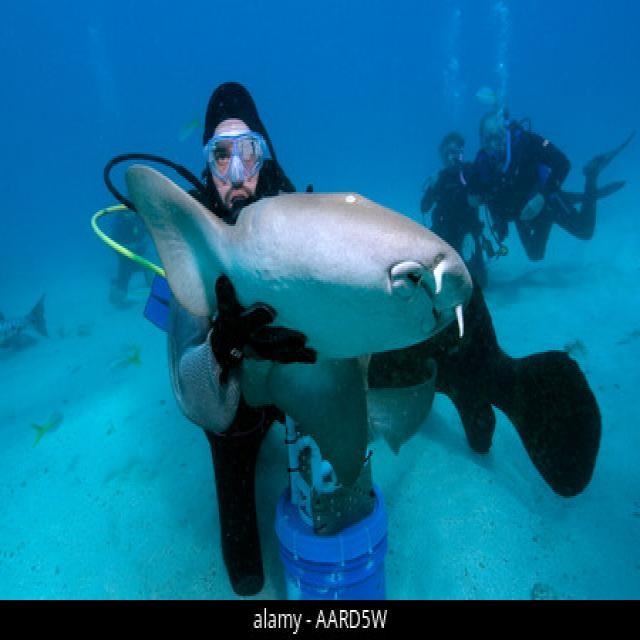Shark: (58, 62, 481, 402)
